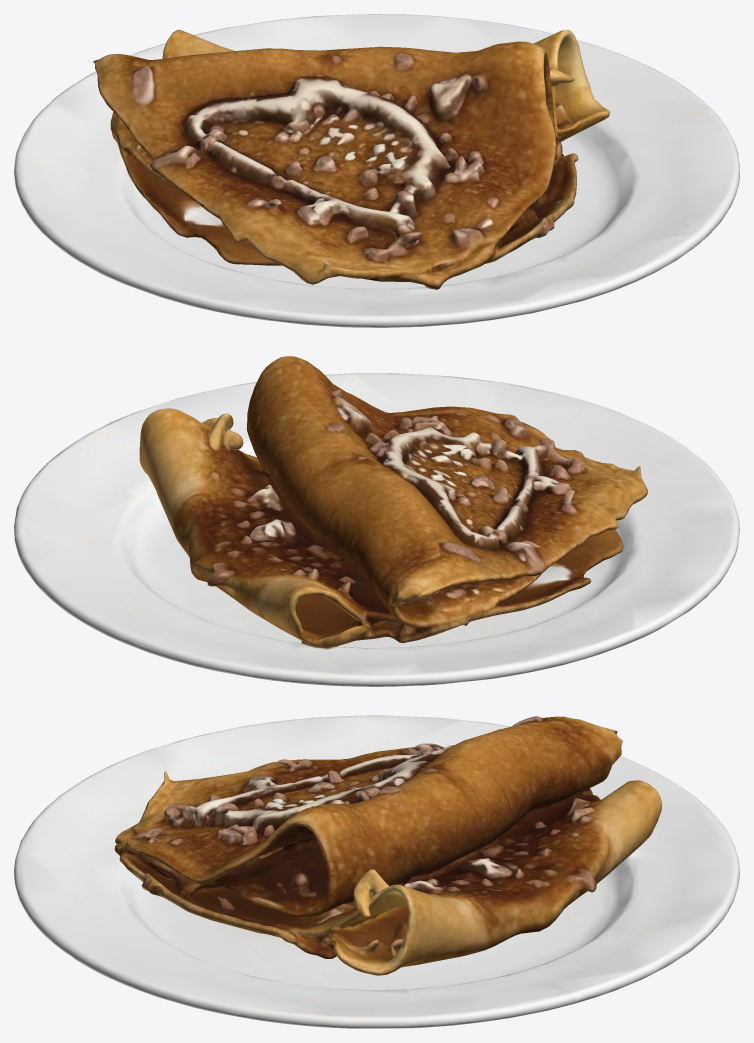
Rendered from crepa-chocolate-optimizada.glb.
3 views of the same model, one above another, from view 1: azimuth 30°, elevation 25°; view 2: azimuth 150°, elevation 25°; view 3: azimuth 270°, elevation 25° (orthographic).
Bounding box in the file's own units: 1.9 × 0.4707 × 1.9.
Materials: 1 (1 with a texture image).
